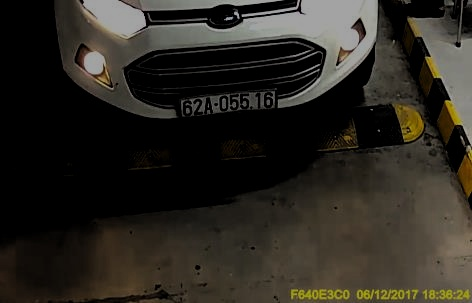plate: (178, 87, 277, 118)
